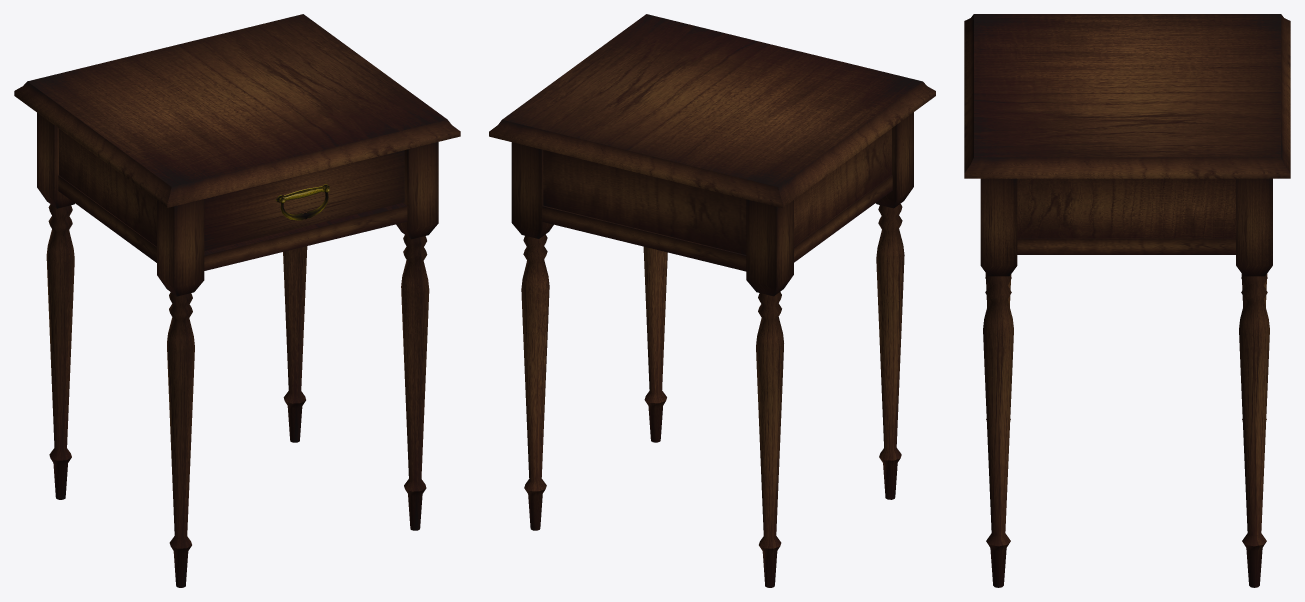
The model's file is chagui3.fbx.
The picture shows the model from 3 angles, left to right: view 1: azimuth 30°, elevation 25°; view 2: azimuth 150°, elevation 25°; view 3: azimuth 270°, elevation 25°; orthographic projection. The views are drawn at different scales.
Parts seen in each view (by area): view 1: obj1; view 2: obj1; view 3: obj1.
Boxes of the visible parts, x1,y1,x2,y2 form: obj1: [14, 14, 460, 587]; obj1: [489, 14, 935, 587]; obj1: [964, 14, 1290, 587].
Bounding box in the file's own units: 68.1 × 91.54 × 61.64.
2 materials, 2 textured.
